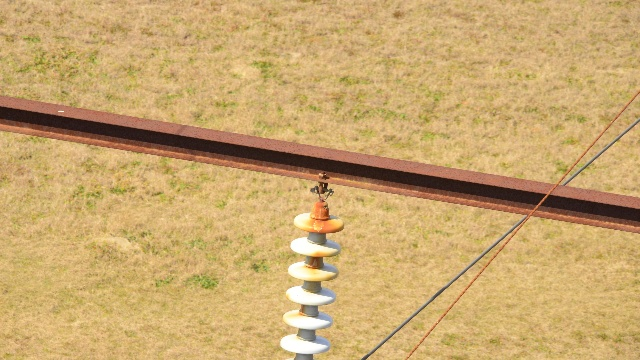insulator_unspecified: (280, 210, 344, 354)
pollution_flashover_local: (312, 218, 325, 232)
